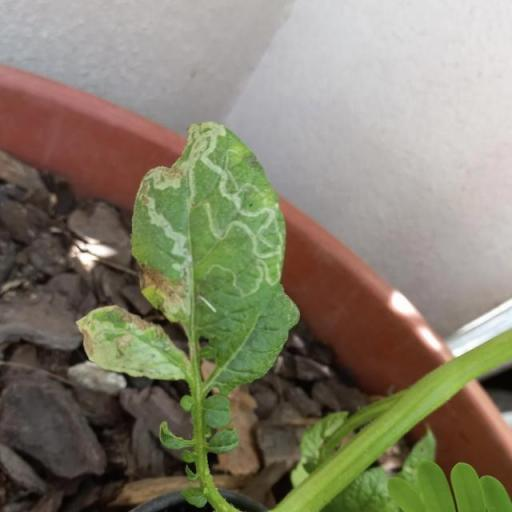Leaf Miner: (130, 120, 306, 398)
